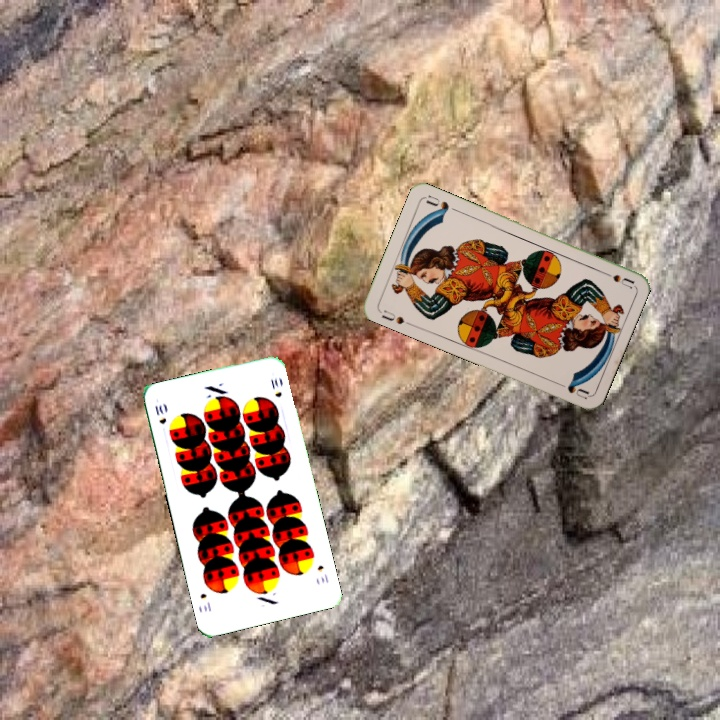S10: (151, 401, 169, 427), (313, 561, 331, 586)
SU: (596, 266, 636, 291), (377, 306, 415, 328)
